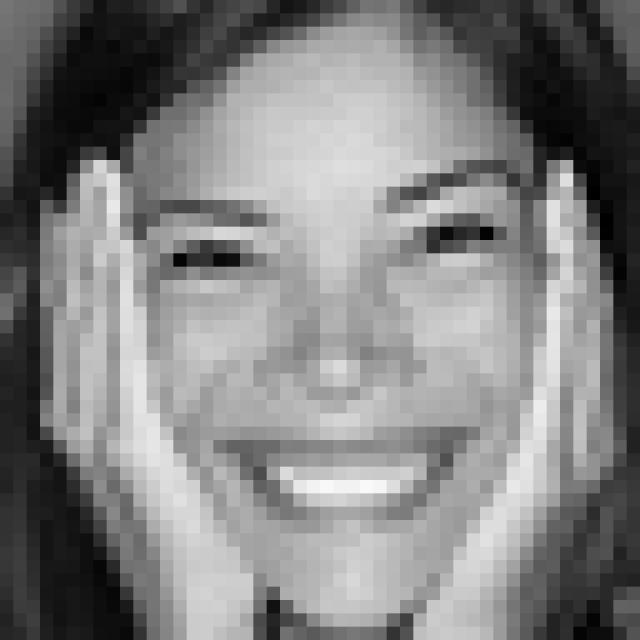happy: (125, 159, 532, 536)
